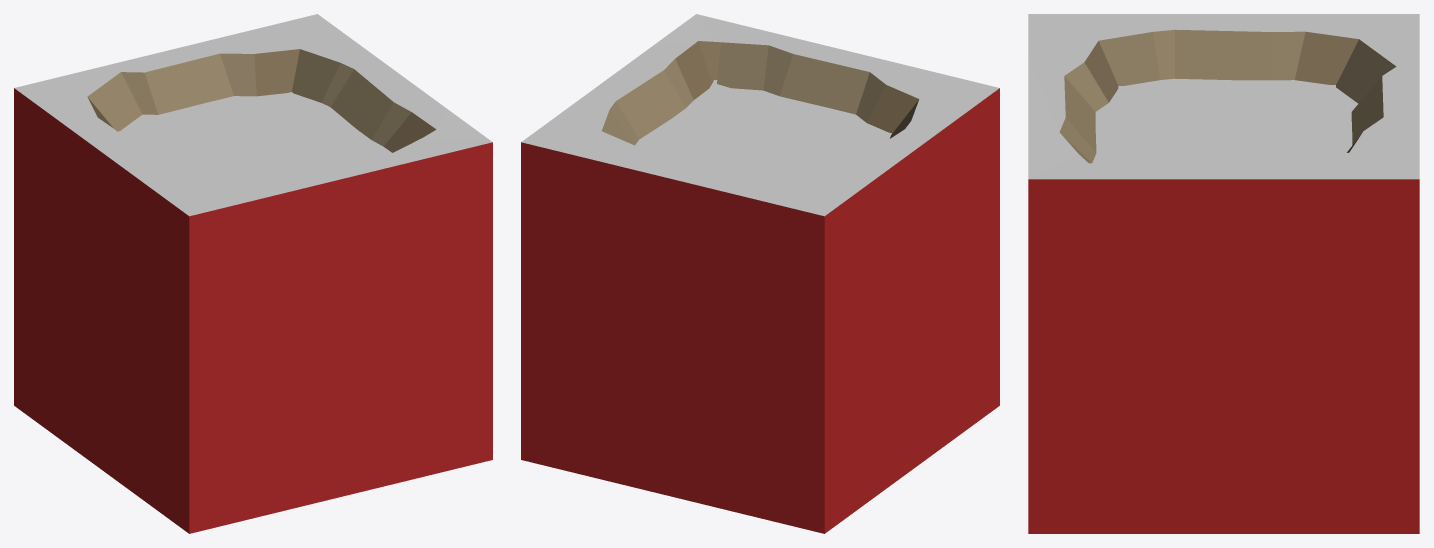
Rendered from Model_Tile_River_0W.fbx.
3 views of the same model, side by side, from view 1: azimuth 30°, elevation 25°; view 2: azimuth 150°, elevation 25°; view 3: azimuth 270°, elevation 25° (orthographic). The views are drawn at different scales.
Parts seen in each view (by area): view 1: Model_Frost_Rivers7; view 2: Model_Frost_Rivers7; view 3: Model_Frost_Rivers7.
Part boxes in pixels (x1,y1,x2,y2): Model_Frost_Rivers7: (14, 14, 492, 533); Model_Frost_Rivers7: (521, 14, 999, 533); Model_Frost_Rivers7: (1028, 14, 1419, 533).
Bounding box in the file's own units: 200 × 200 × 200.
